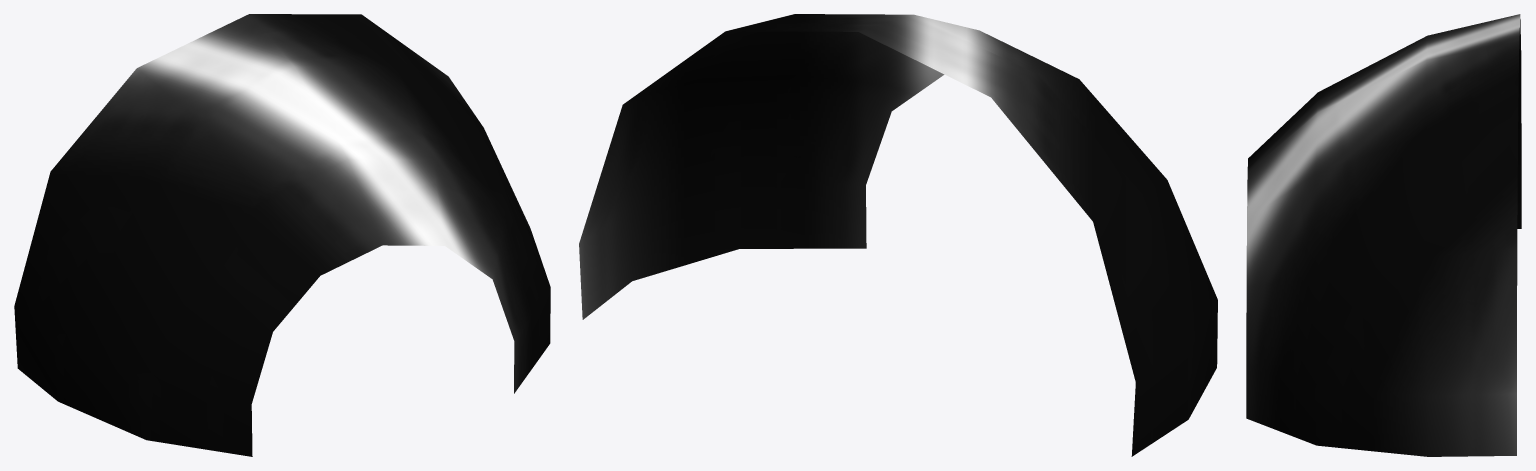
File: yanjiusuoglow.FBX
The picture shows the model from 3 angles, left to right: view 1: azimuth 30°, elevation 25°; view 2: azimuth 150°, elevation 25°; view 3: azimuth 270°, elevation 25°; orthographic projection. The views are drawn at different scales.
Visible parts, largest first — view 1: yanjiusuo_01; view 2: yanjiusuo_01; view 3: yanjiusuo_01.
Part boxes in pixels (x1,y1,x2,y2): yanjiusuo_01: (14, 14, 550, 456); yanjiusuo_01: (579, 14, 1217, 456); yanjiusuo_01: (1246, 14, 1521, 456).
Size of the model in its own units: 233 by 147 by 117.
